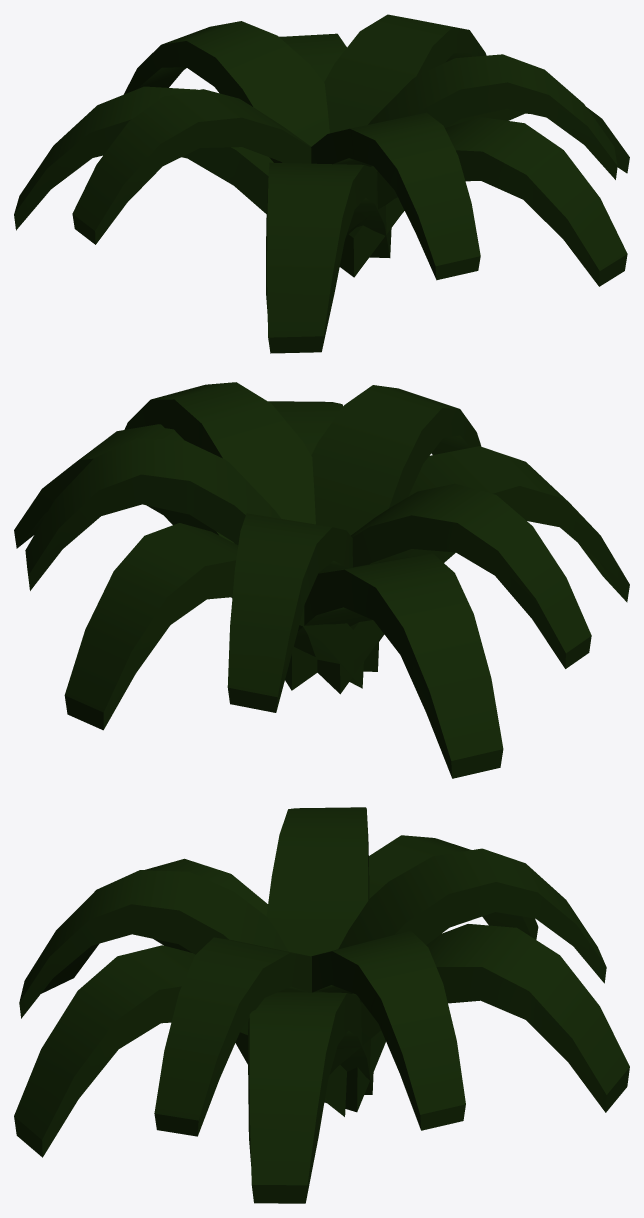
The model's file is veg_03.fbx.
3 renders of one model, top to bottom at view 1: azimuth 30°, elevation 25°; view 2: azimuth 150°, elevation 25°; view 3: azimuth 270°, elevation 25°, orthographic. The views are drawn at different scales.
Parts seen in each view (by area): view 1: veg_03; view 2: veg_03; view 3: veg_03.
Part boxes in pixels (x1,y1,x2,y2): veg_03: (14,14,629,353); veg_03: (14,382,629,778); veg_03: (14,807,629,1203).
Bounding box in the file's own units: 3.1 × 1.07 × 2.83.
